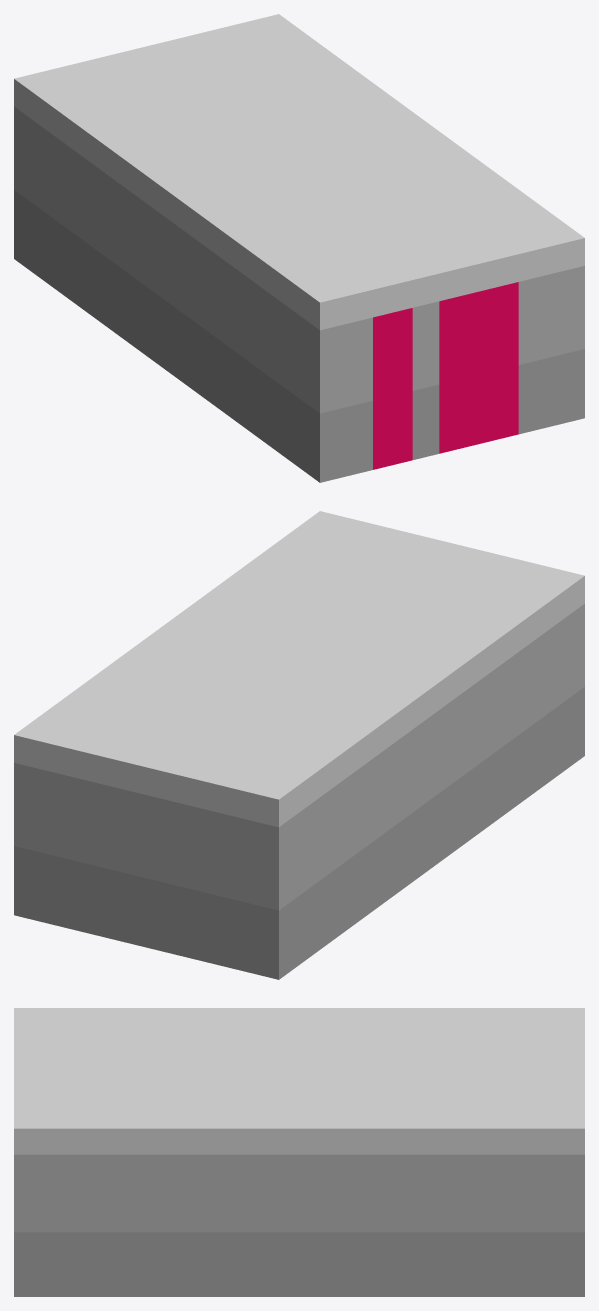
Rendered from PuertaLeftTecho.FBX.
The picture shows the model from 3 angles, top to bottom: view 1: azimuth 30°, elevation 25°; view 2: azimuth 150°, elevation 25°; view 3: azimuth 270°, elevation 25°; orthographic projection. The views are drawn at different scales.
Parts seen in each view (by area): view 1: PuertaLeftTecho; view 2: PuertaLeftTecho; view 3: PuertaLeftTecho.
Part boxes in pixels (x1,y1,x2,y2): PuertaLeftTecho: [14, 14, 584, 482]; PuertaLeftTecho: [14, 511, 584, 979]; PuertaLeftTecho: [14, 1008, 584, 1296].
Bounding box in the file's own units: 0.5 × 0.325 × 1.
Materials: 1 (1 with a texture image).
